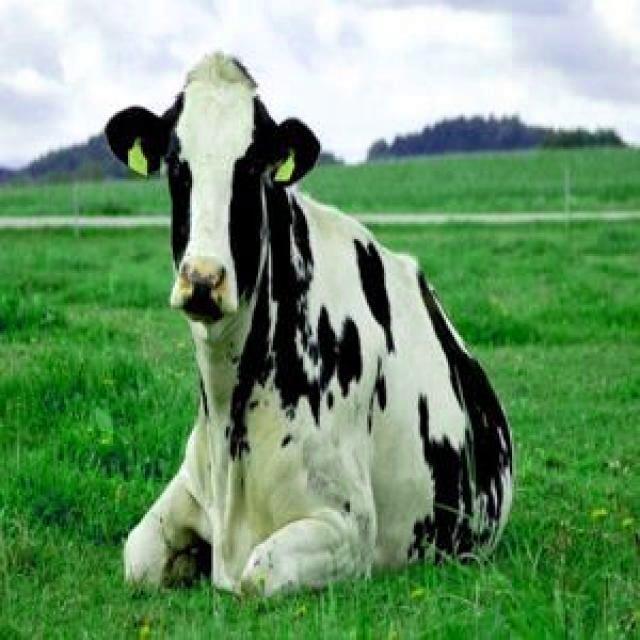COW: (106, 52, 511, 594)
